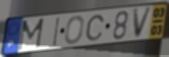8: (112, 10, 129, 41)
C: (84, 14, 106, 42)
I: (52, 16, 61, 48)
M: (16, 17, 45, 52)
O: (63, 15, 86, 46)
V: (132, 6, 154, 40)
